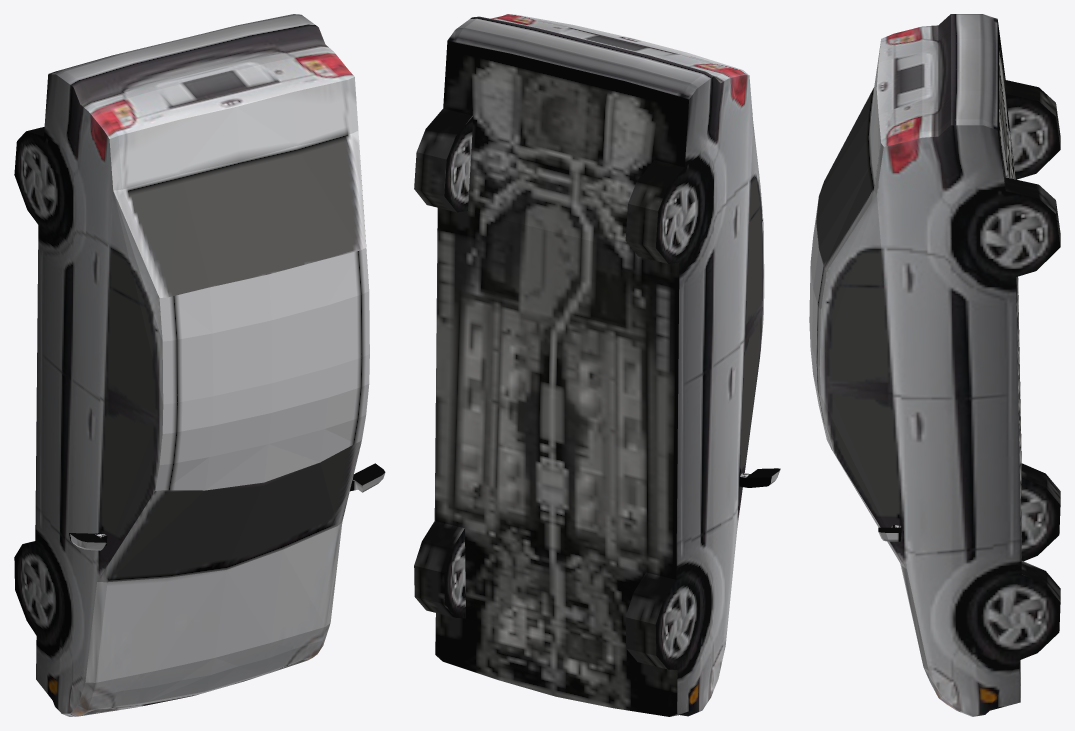
The model's file is riocar520s_wtf.obj.
The picture shows the model from 3 angles, left to right: view 1: azimuth 30°, elevation 25°; view 2: azimuth 150°, elevation 25°; view 3: azimuth 270°, elevation 25°; orthographic projection. The views are drawn at different scales.
Visible parts, largest first — view 1: group1; view 2: group1; view 3: group1.
Part boxes in pixels (x1,y1,x2,y2): group1: (14, 14, 385, 716); group1: (414, 14, 780, 716); group1: (809, 14, 1060, 716).
Bounding box in the file's own units: 324 × 660 × 248.
